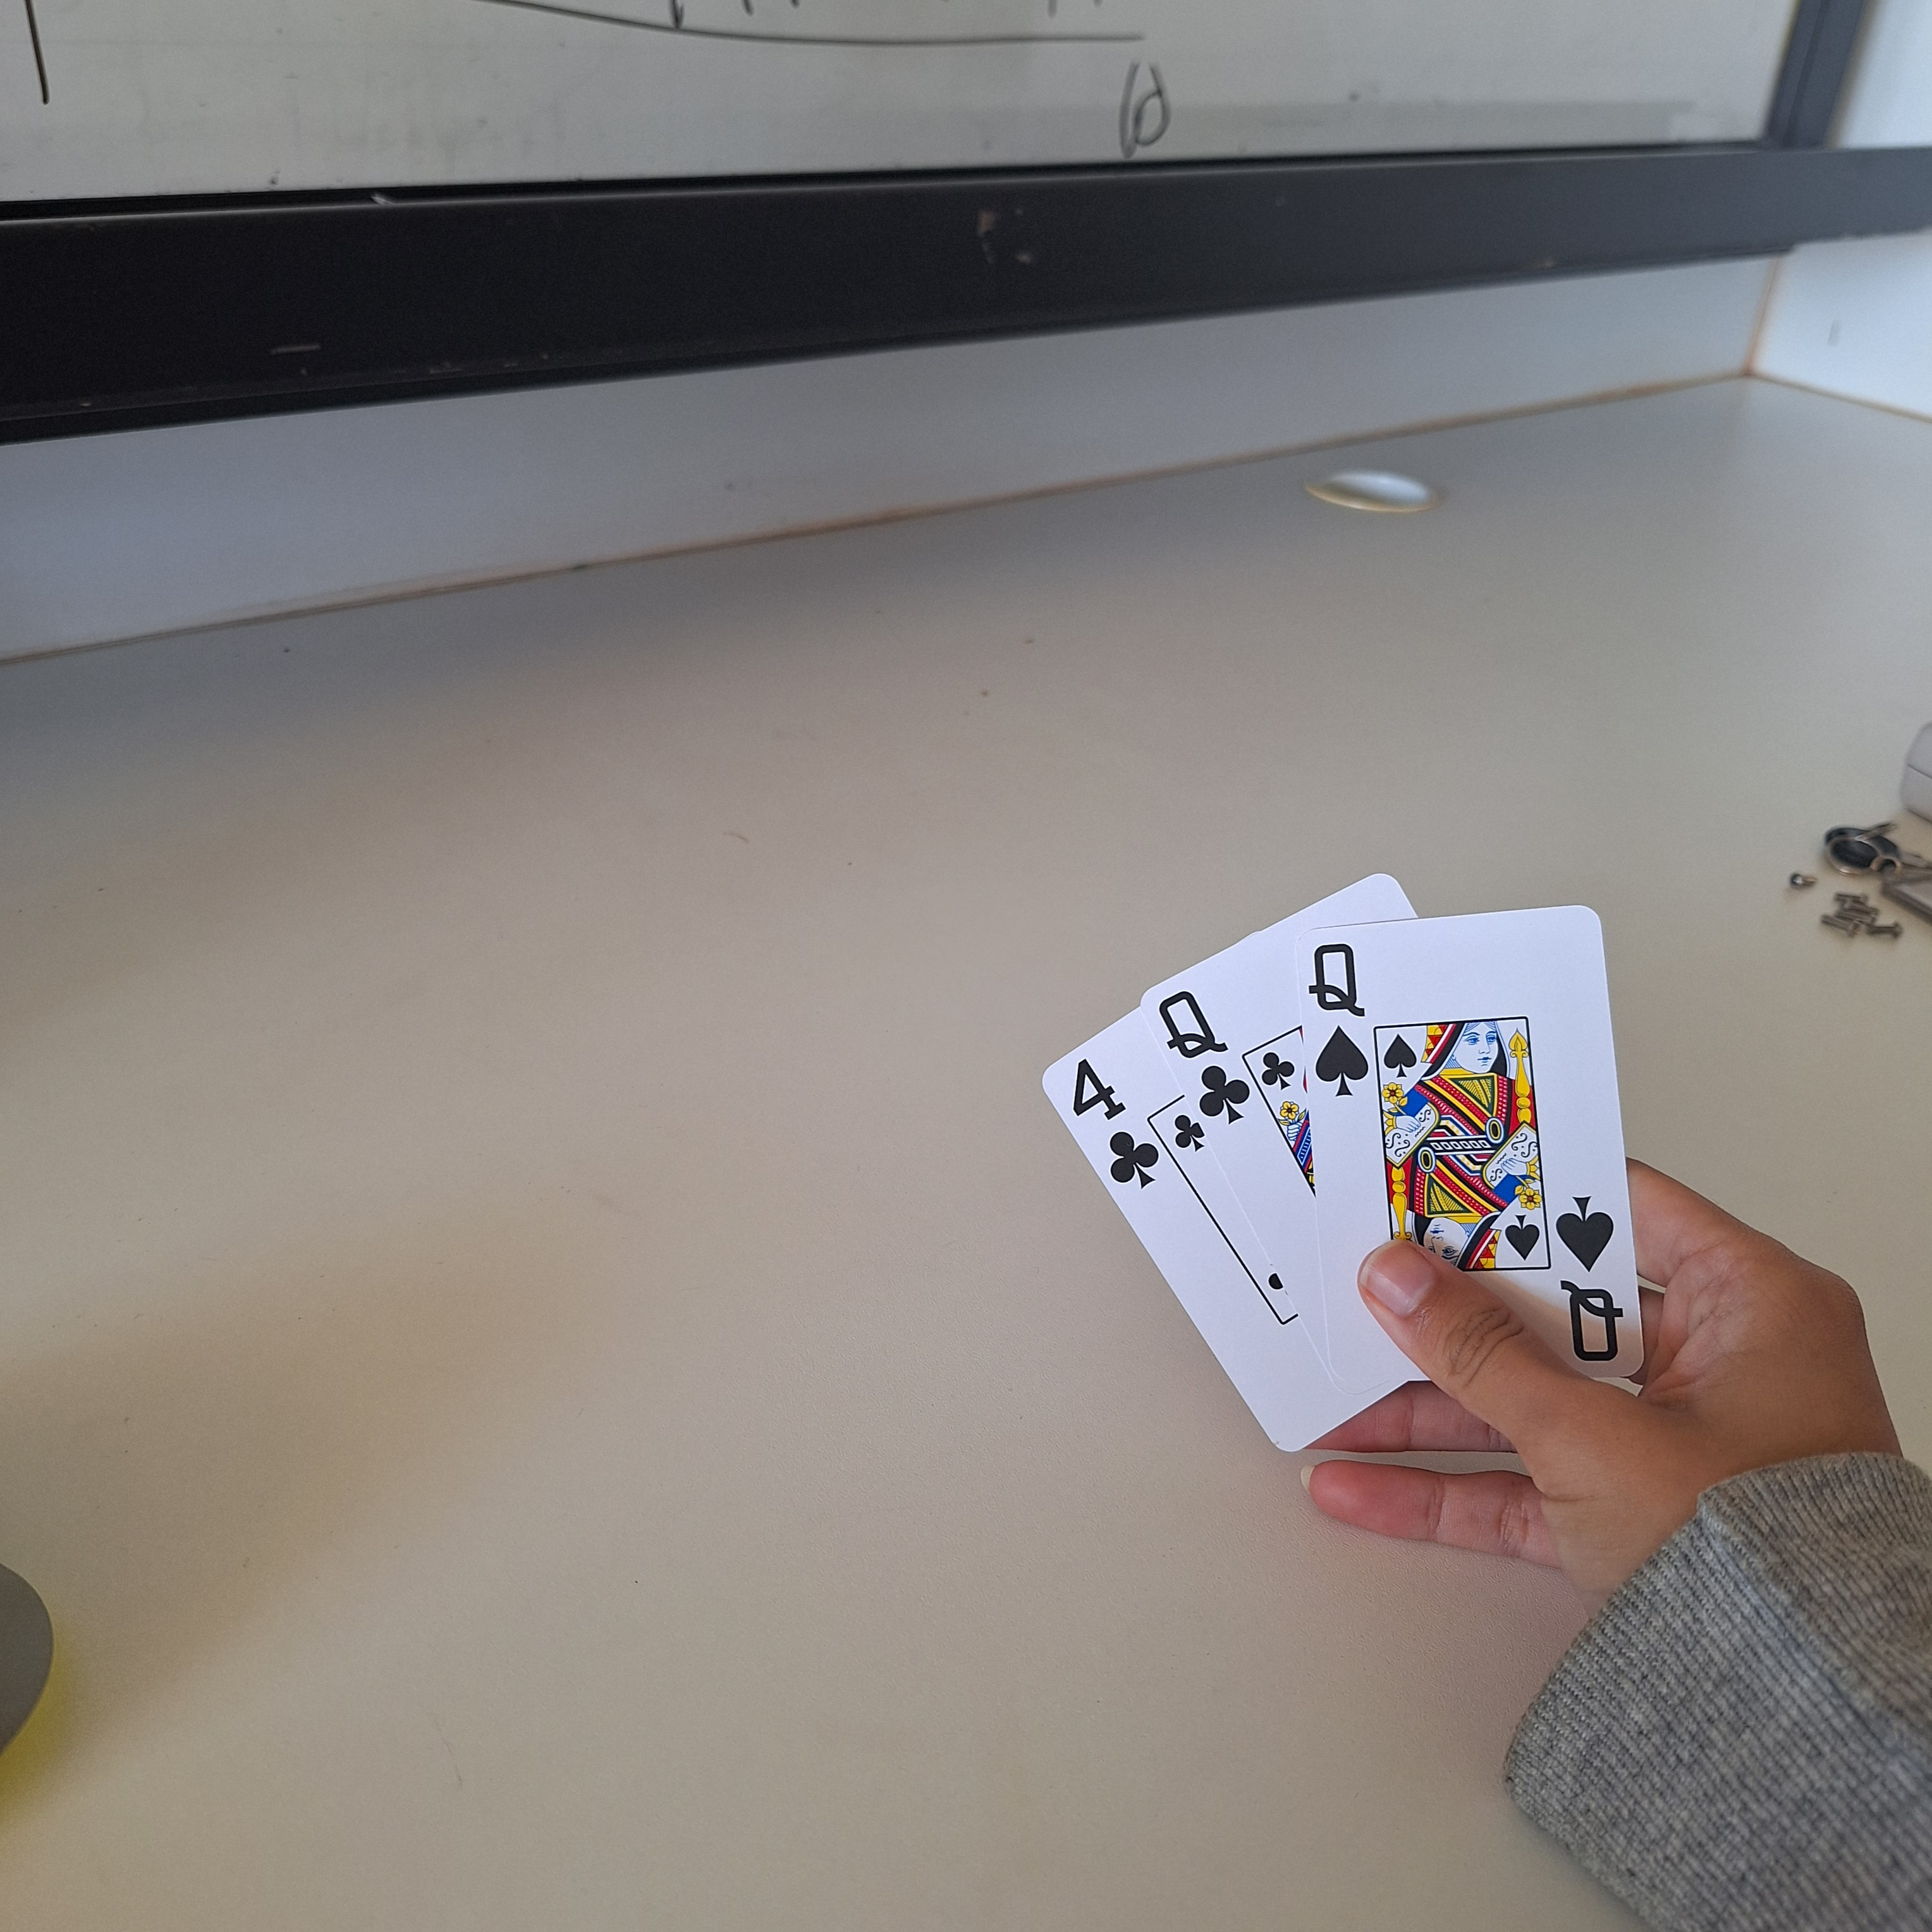4P: (1063, 1051, 1166, 1196)
QE: (1548, 1184, 1635, 1373), (1299, 934, 1376, 1104)
QP: (1155, 984, 1253, 1127)
